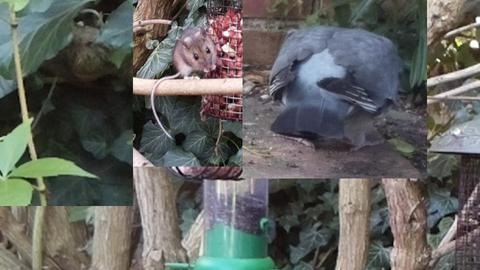mouse: (149, 25, 218, 142)
wood pigeon: (268, 25, 402, 154)
